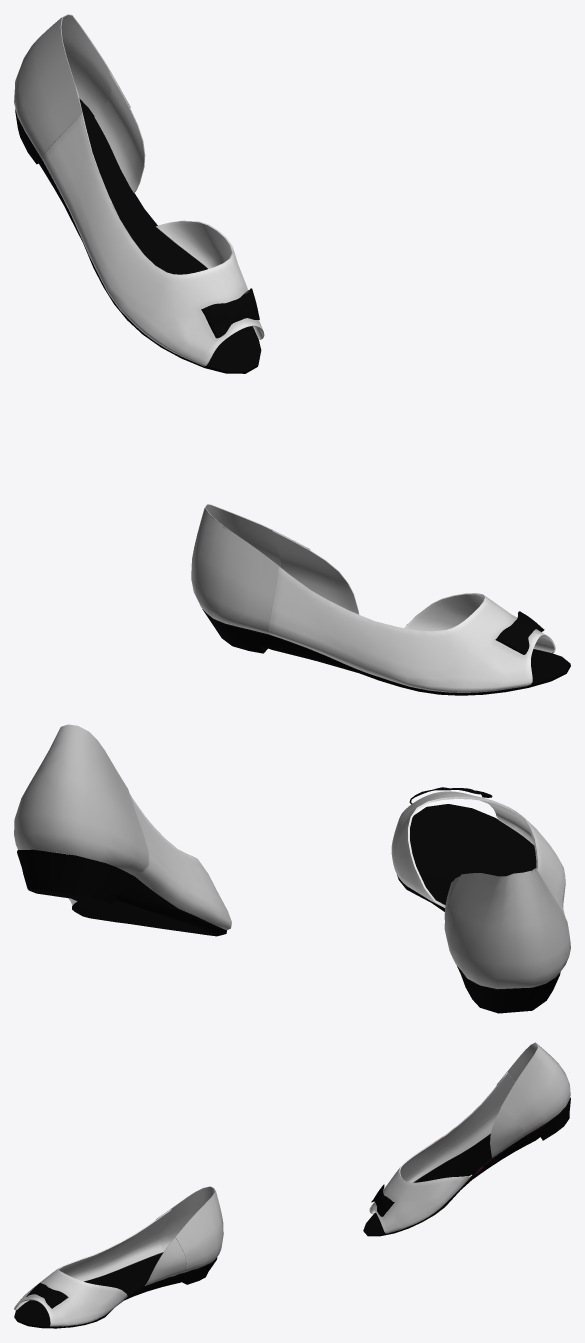
The model's file is BellyJ.fbx.
The picture shows the model from 3 angles, top to bottom: view 1: azimuth 30°, elevation 25°; view 2: azimuth 150°, elevation 25°; view 3: azimuth 270°, elevation 25°; orthographic projection. The views are drawn at different scales.
Visible parts, largest first — view 1: BellyJ; view 2: BellyJ; view 3: BellyJ.
Boxes of the visible parts, x1,y1,x2,y2 form: BellyJ: (14,14,570,695); BellyJ: (14,724,570,1013); BellyJ: (14,1042,570,1328).
Size of the model in its own units: 18.97 by 30.14 by 59.04.
